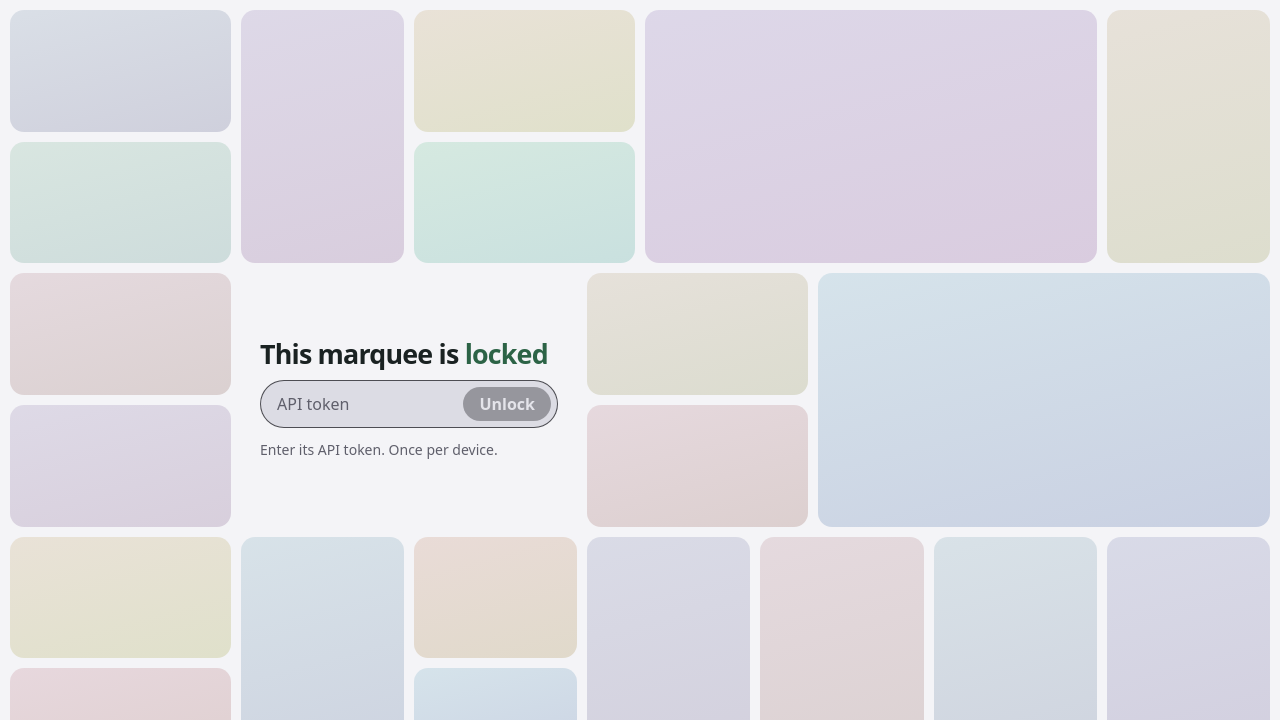
the line never hides a fresh refusal: sending a token puts it away
Later steps or results of the test are not shown.
Type "wrong" into the password field labelled "API token".
click(366, 404); type("wrong")  # box x1=277 y1=381 x2=456 y2=427
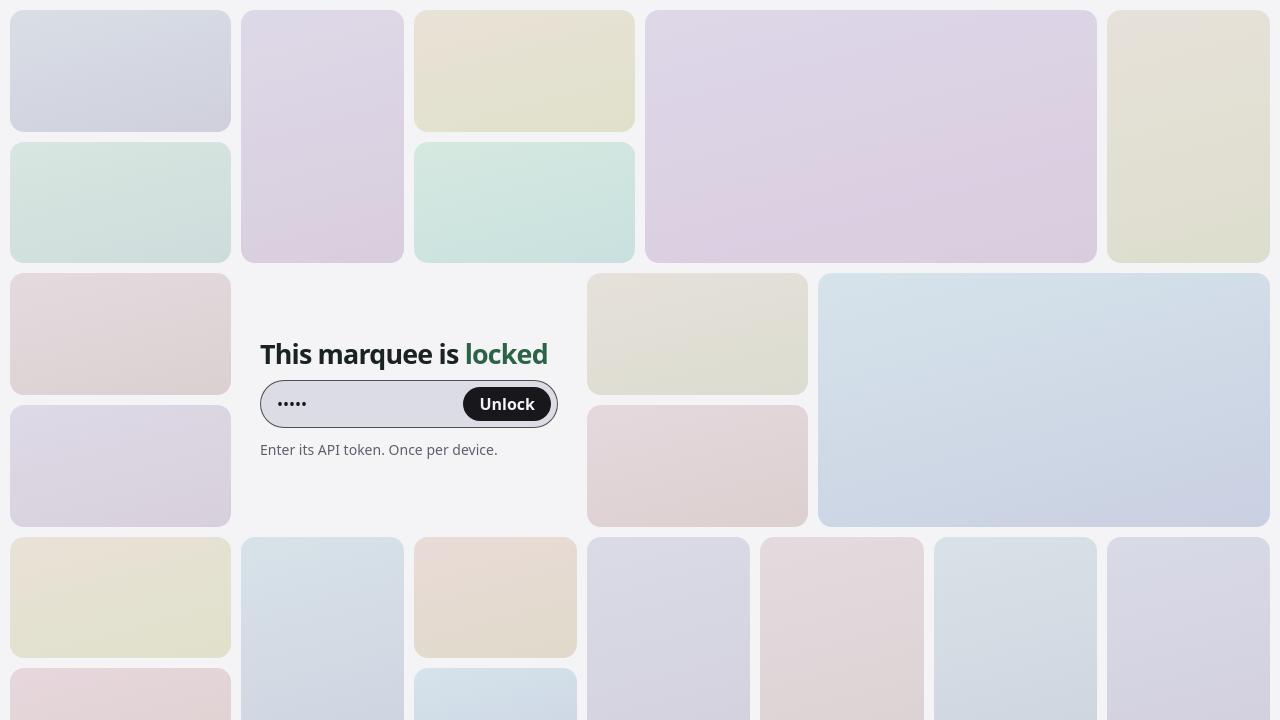
Click the 1st element with class "utile".
click(120, 71)  # box x1=5 y1=5 x2=236 y2=137
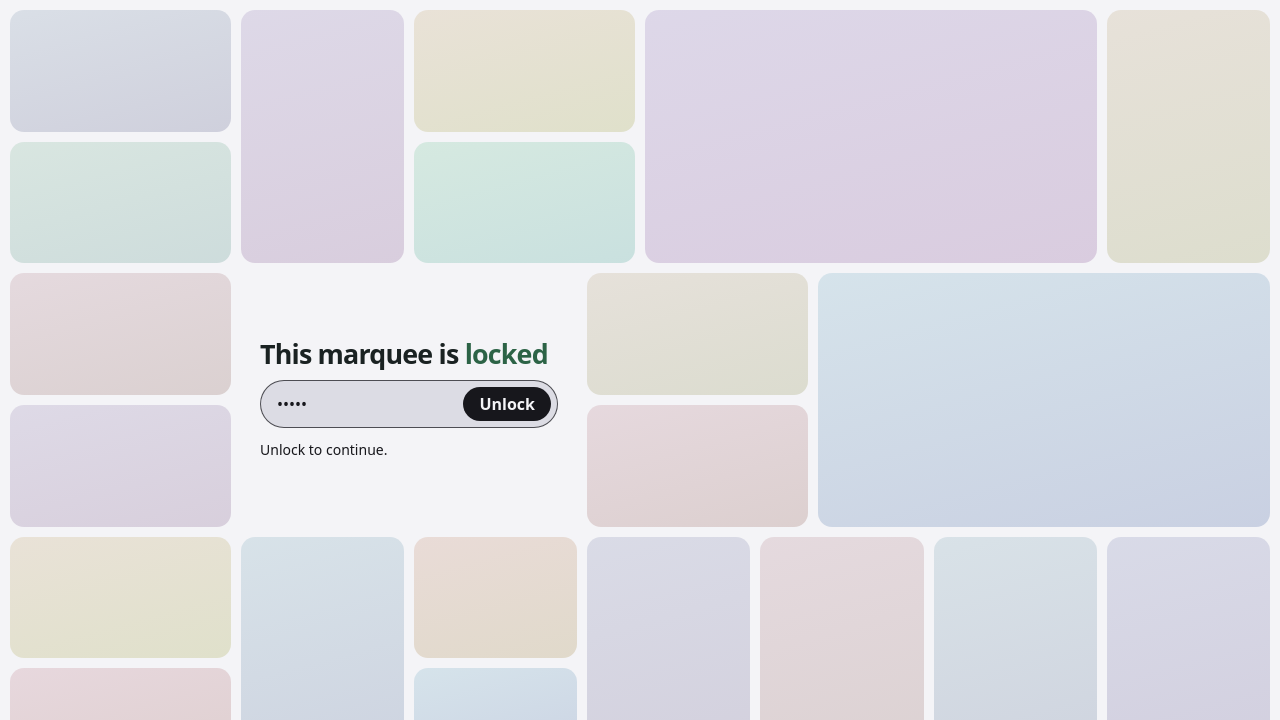
Expected: the text "Unlock to continue." is shown, x1=260 y1=440 x2=387 y2=459
